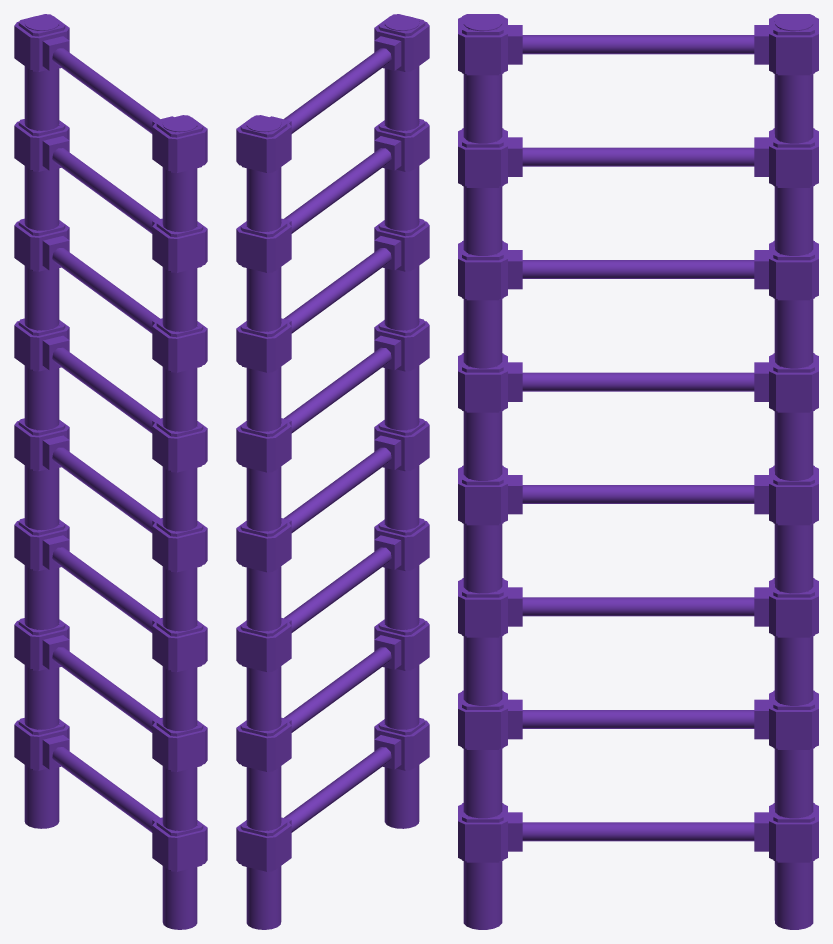
The model's file is Ladder_A_4m.FBX.
The picture shows the model from 3 angles, left to right: view 1: azimuth 30°, elevation 25°; view 2: azimuth 150°, elevation 25°; view 3: azimuth 270°, elevation 25°; orthographic projection. The views are drawn at different scales.
Parts seen in each view (by area): view 1: Ladder_A_4m; view 2: Ladder_A_4m; view 3: Ladder_A_4m.
Part boxes in pixels (x1=…): Ladder_A_4m: x1=14, y1=14, x2=207, y2=929; Ladder_A_4m: x1=236, y1=14, x2=429, y2=929; Ladder_A_4m: x1=458, y1=14, x2=818, y2=929.
Bounding box in the file's own units: 20.68 × 400 × 145.
